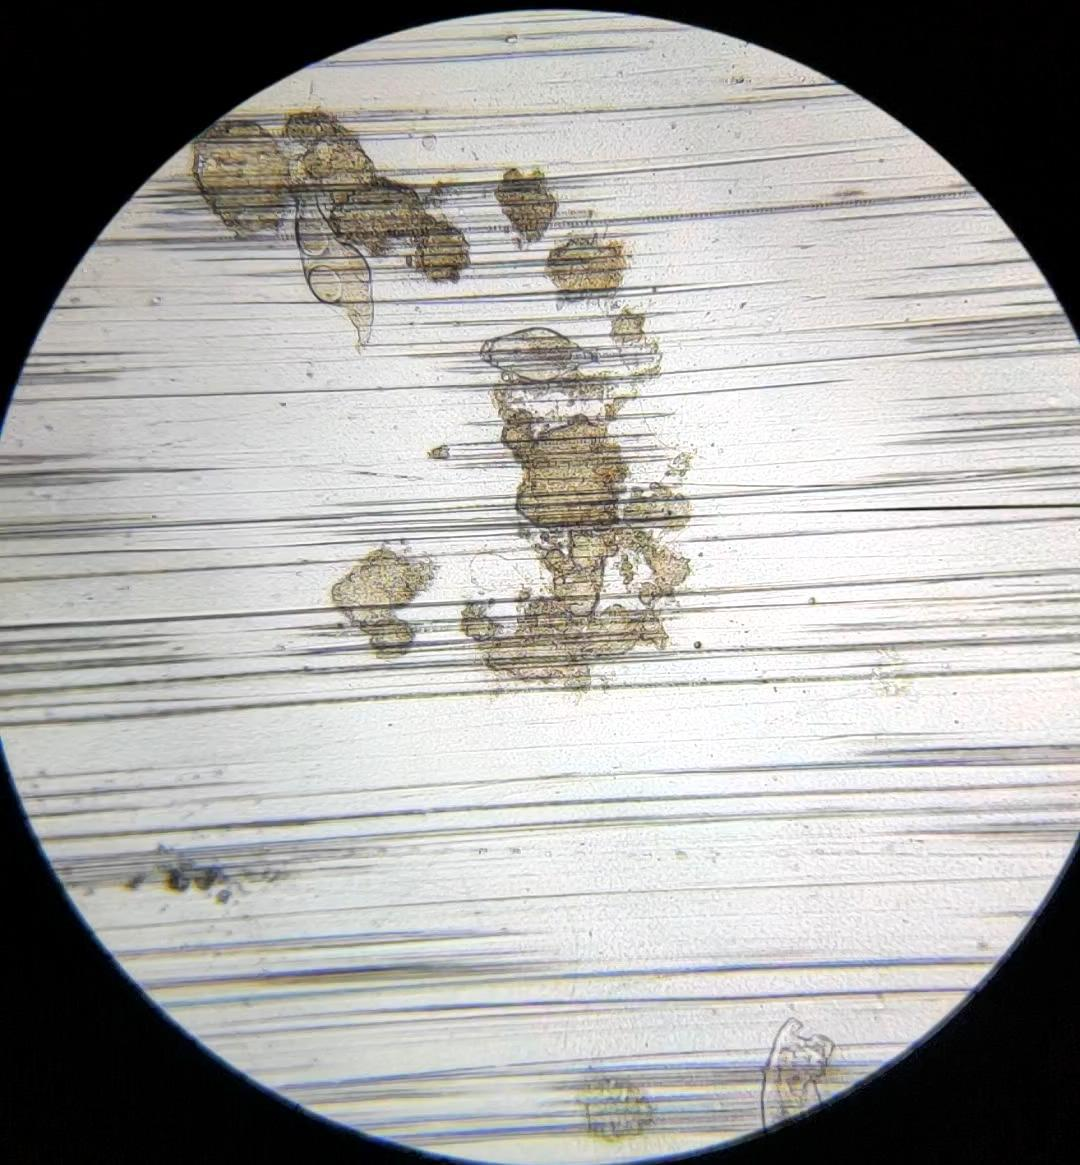Do: (289, 185, 374, 351), (762, 1017, 835, 1130), (480, 327, 600, 384)
